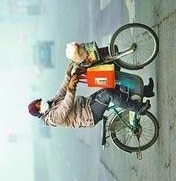person: (30, 71, 155, 129)
